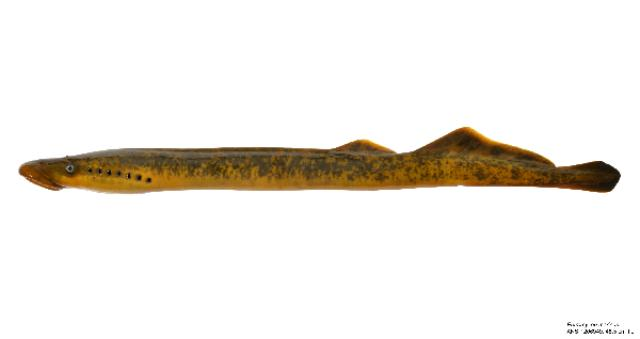Sirip Ekor: (560, 136, 628, 218)
